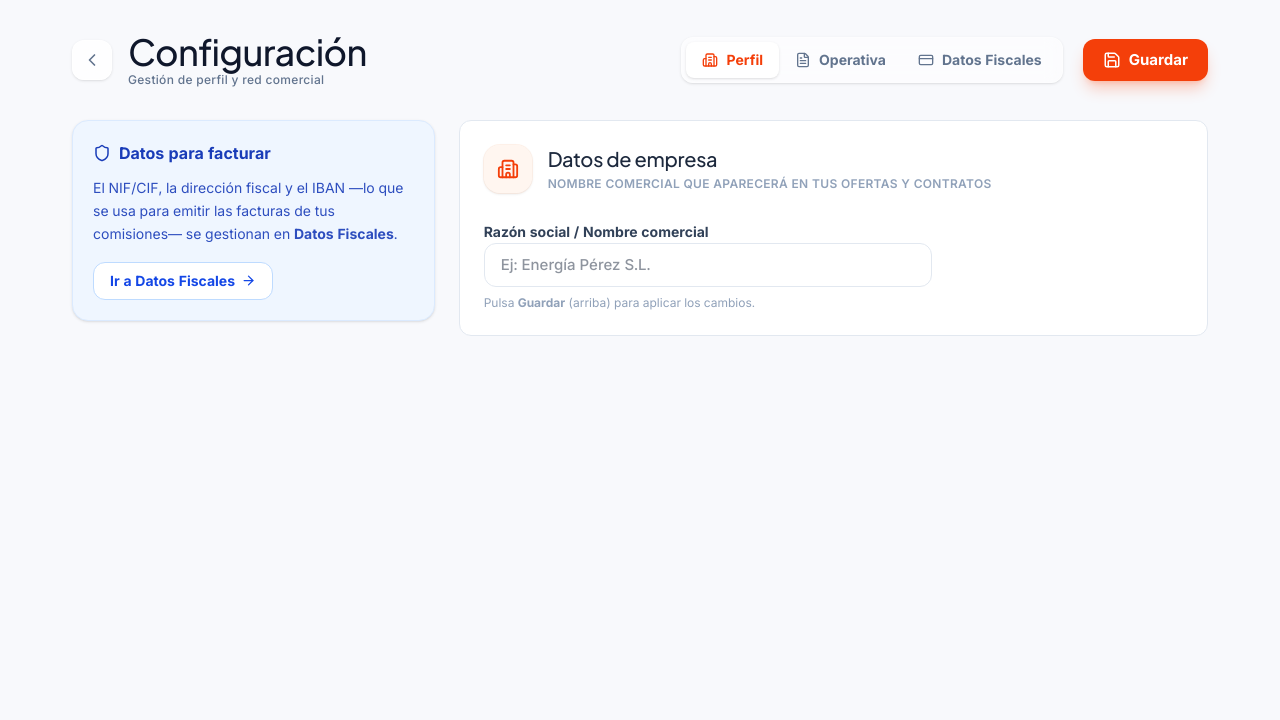
SettingsView — pestañas del colaborador › muestra Operativa con sus condiciones por defecto
Click the button "Operativa".
click(840, 60)  # box [779,42,902,78]
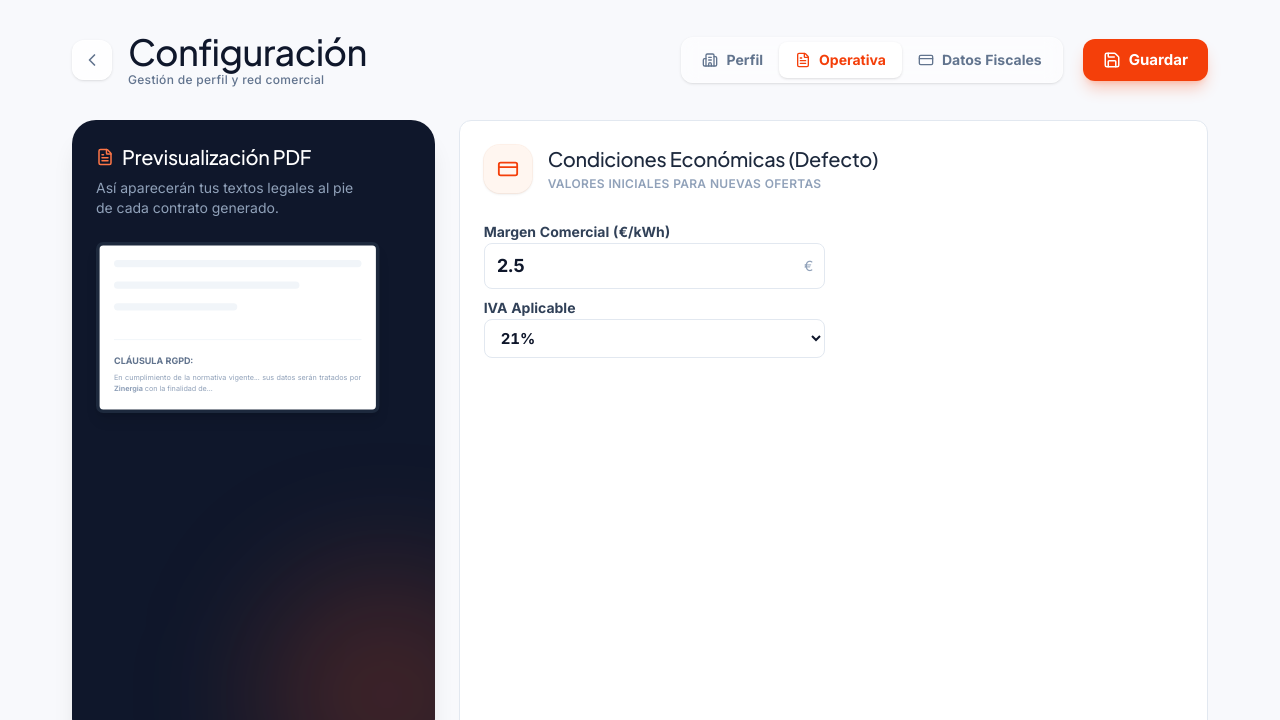
Expected: the heading "Condiciones Económicas (Defecto)" is shown, [548,146,878,172]
Expected: the number field named "Margen Comercial" is shown, [484,243,825,289]
